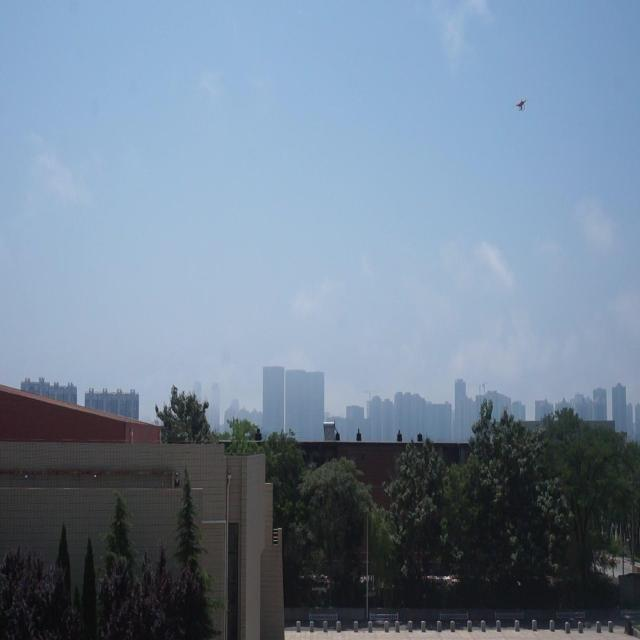drone: (513, 95, 531, 114)
